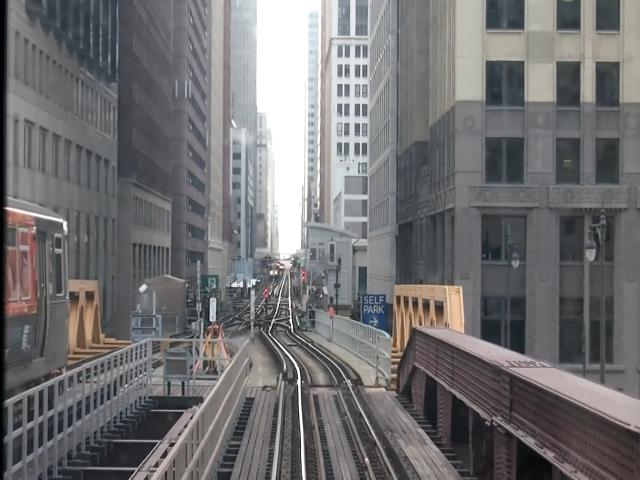signal light: (265, 288, 270, 318), (303, 270, 307, 290)
